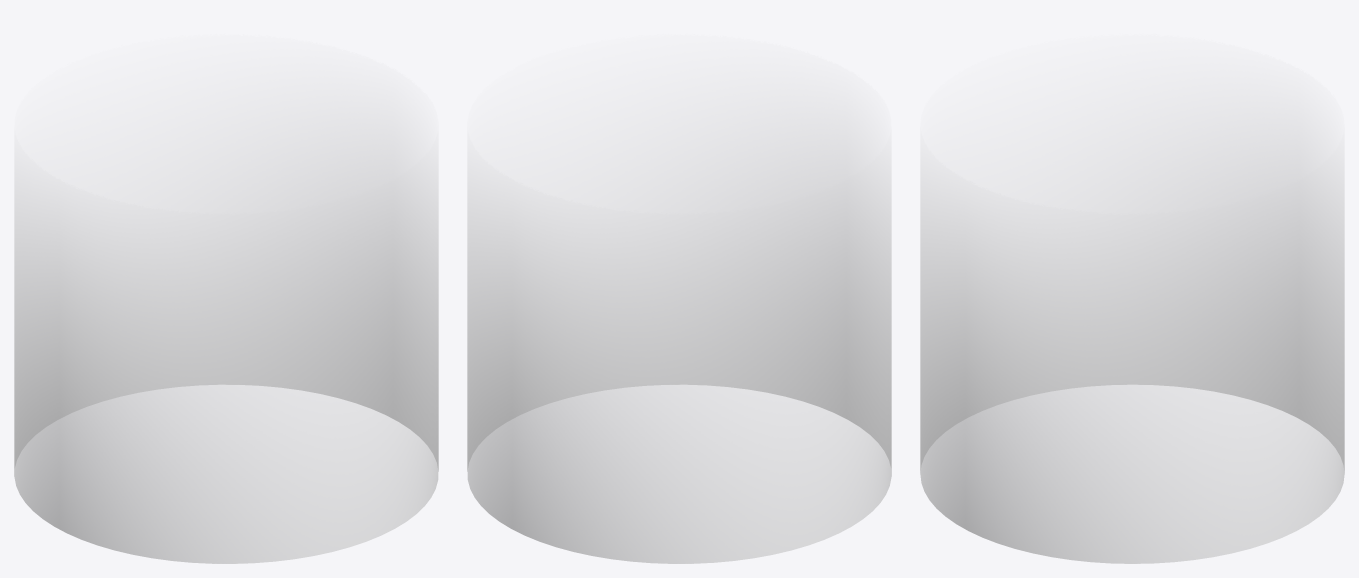
File: vrteleportglow.gltf
3 renders of one model, left to right at view 1: azimuth 30°, elevation 25°; view 2: azimuth 150°, elevation 25°; view 3: azimuth 270°, elevation 25°, orthographic.
Parts seen in each view (by area): view 1: VRTeleportGlow; view 2: VRTeleportGlow; view 3: VRTeleportGlow.
Boxes of the visible parts, x1,y1,x2,y2 form: VRTeleportGlow: (14, 124, 438, 563); VRTeleportGlow: (467, 123, 891, 563); VRTeleportGlow: (920, 124, 1344, 563).
Bounding box in the file's own units: 0.56 × 0.54 × 0.56.
Materials: 1 (1 with a texture image).
